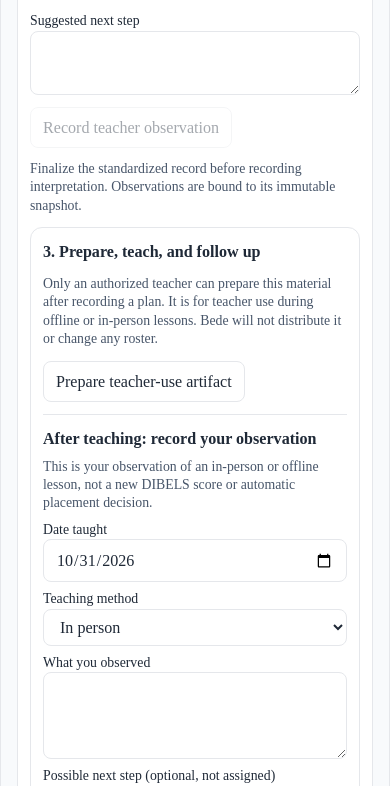
Test: pilot official assessment two-panel workflow › shows an approved teacher artifact and separately records an after-teaching observation
(page scrolled)
Click the button "Prepare teacher-use artifact" at (144, 381), box [43, 361, 245, 402]
(page scrolled)
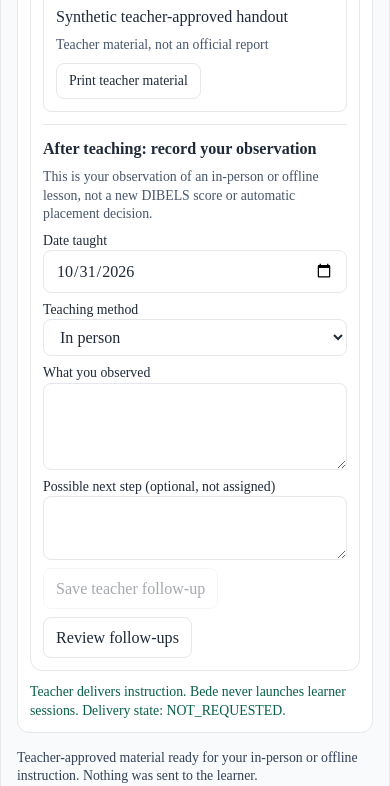
Check: the text "Synthetic teacher-approved handout" is shown, box [56, 8, 288, 26]
Check: the text "Teacher material, not an official report" is shown, box [56, 38, 268, 52]
Type "Synthetic teacher observation" into the text box labelled "What you observed" at (195, 426), box [43, 383, 347, 470]
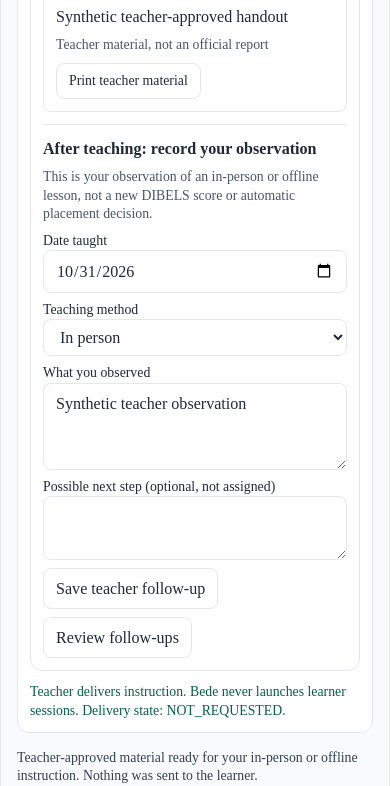
Click the button "Save teacher follow-up" at (131, 589), box [43, 568, 218, 609]
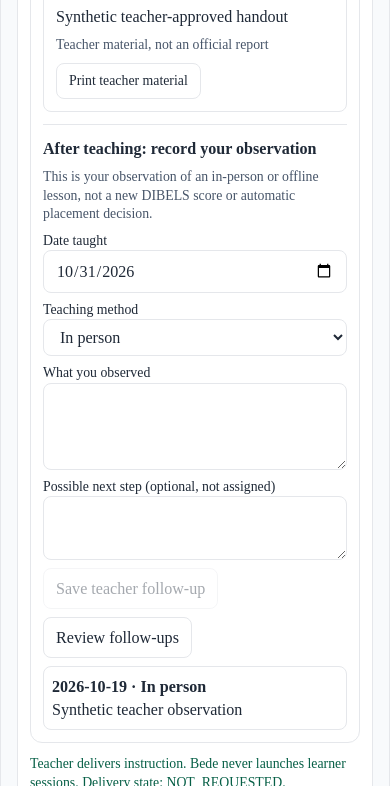
Check: the text "Synthetic teacher observation" is shown, box [52, 701, 242, 718]
